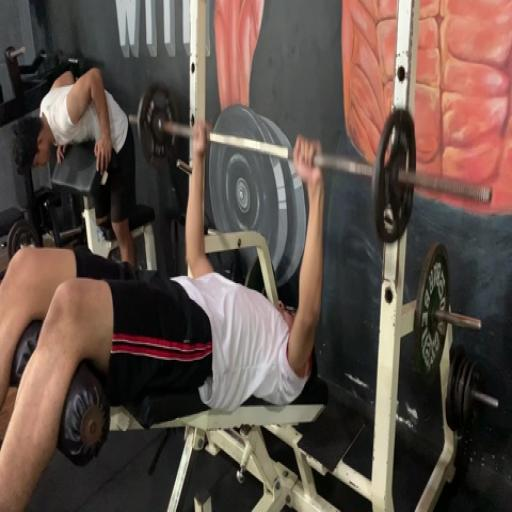exercise: (0, 121, 329, 510), (11, 64, 142, 273)
